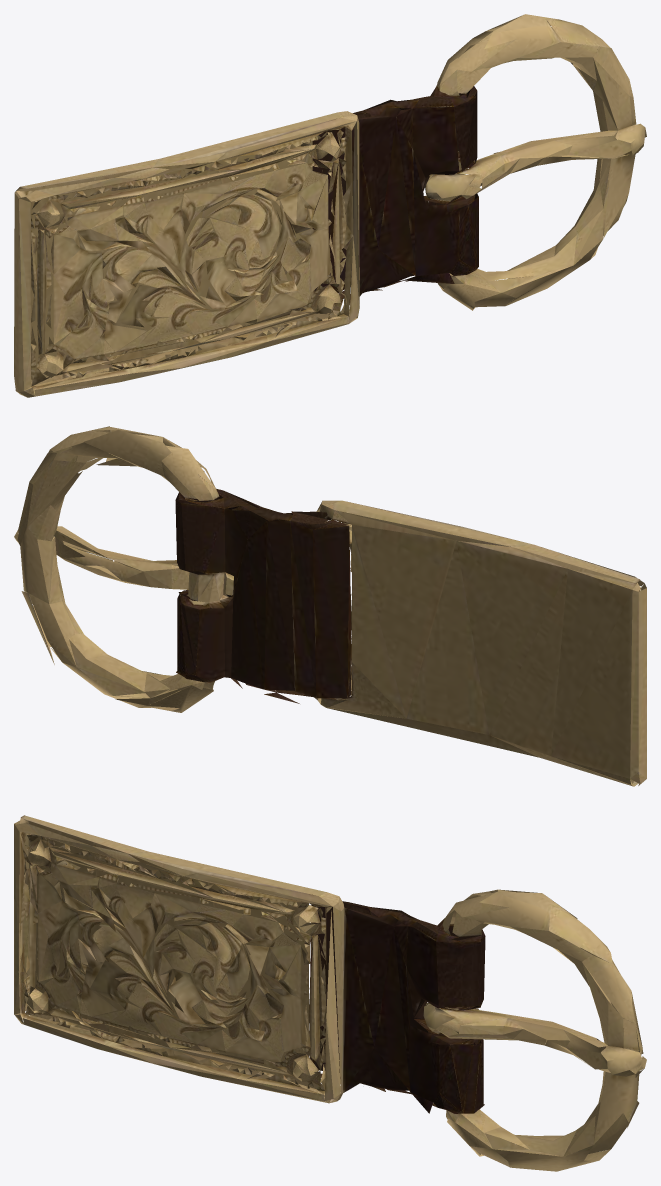
The model's file is buckle_p3_w1.glb.
3 views of the same model, one above another, from view 1: azimuth 30°, elevation 25°; view 2: azimuth 150°, elevation 25°; view 3: azimuth 330°, elevation 25° (orthographic).
Parts seen in each view (by area): view 1: buckle_p3_w1; view 2: buckle_p3_w1; view 3: buckle_p3_w1.
Part boxes in pixels (x1=…): buckle_p3_w1: x1=14, y1=14, x2=646, y2=397; buckle_p3_w1: x1=14, y1=426, x2=646, y2=786; buckle_p3_w1: x1=14, y1=815, x2=646, y2=1171.
Bounding box in the file's own units: 0.13 × 0.0551 × 0.014.
Materials: 1 (1 with a texture image).
